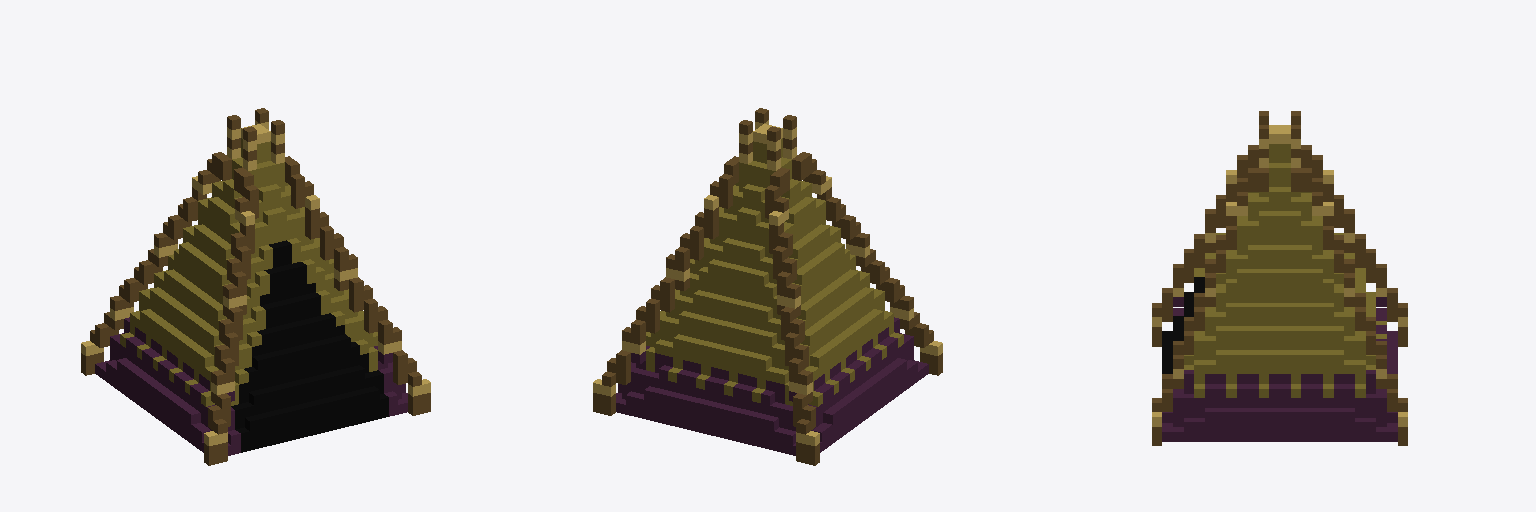
The picture shows the model from 3 angles: view 1: azimuth 30°, elevation 25°; view 2: azimuth 150°, elevation 25°; view 3: azimuth 270°, elevation 25°; orthographic projection.
Parts seen in each view (by area): view 1: tent3; view 2: tent3; view 3: tent3.
Boxes of the visible parts, x1=… form: tent3: x1=81, y1=108, x2=430, y2=465; tent3: x1=593, y1=108, x2=942, y2=465; tent3: x1=1152, y1=111, x2=1407, y2=445.
Bounding box in the file's own units: 24 × 28 × 24.
Materials: 1 (1 with a texture image).